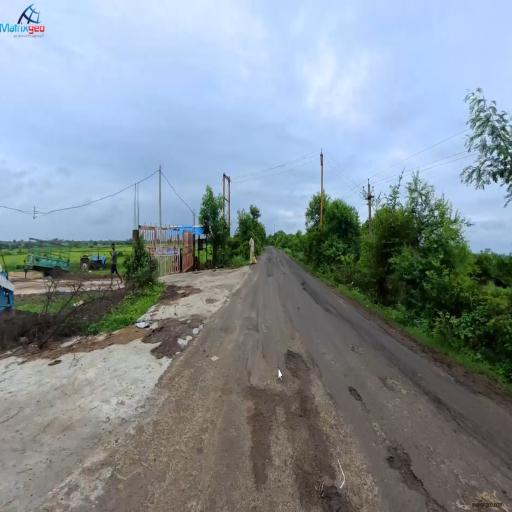pothole: (281, 333, 319, 396)
